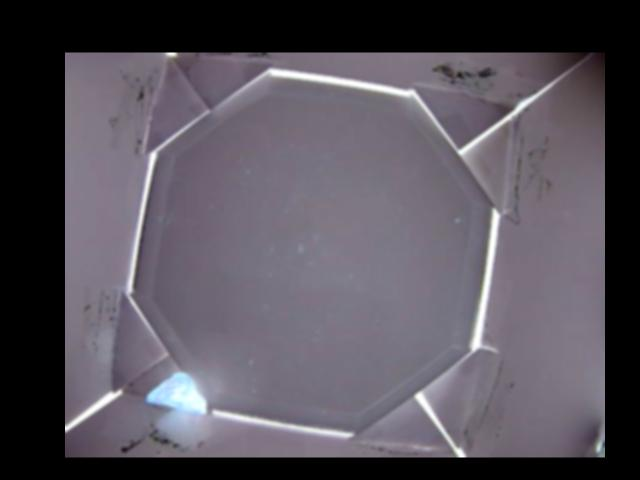Brisk: (145, 372, 207, 409)
